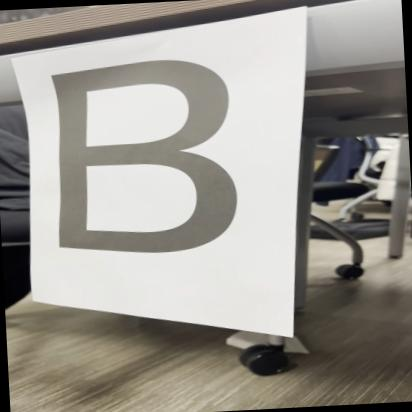seat: (28, 52, 280, 272)
